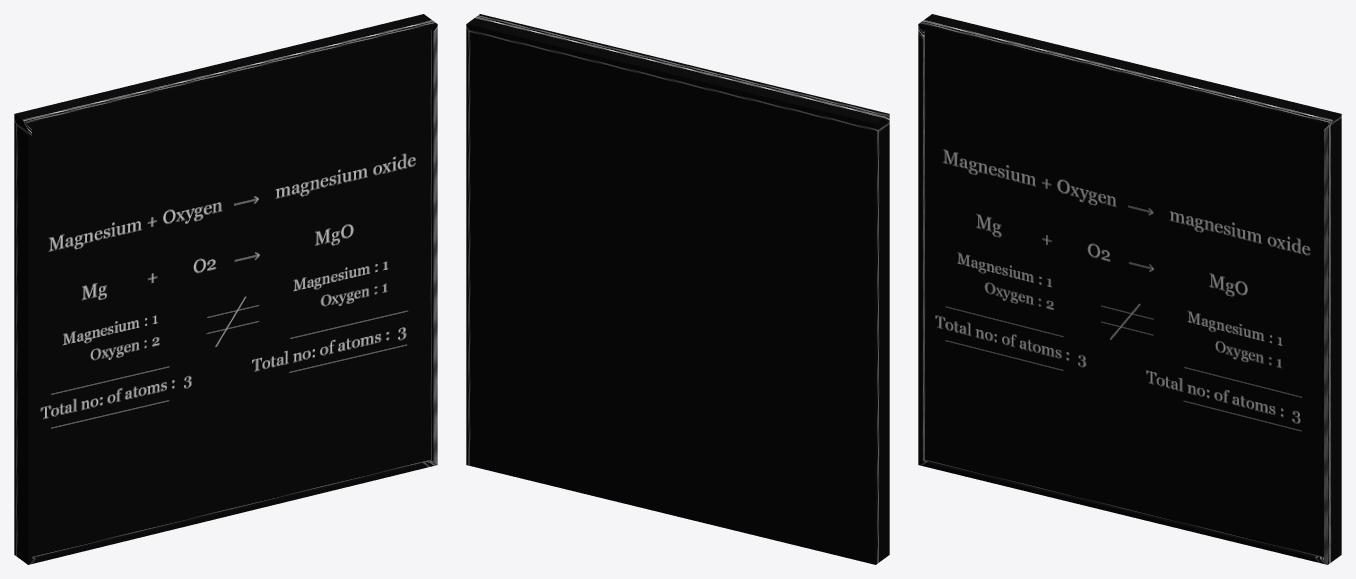
3 renders of one model, left to right at view 1: azimuth 30°, elevation 25°; view 2: azimuth 150°, elevation 25°; view 3: azimuth 330°, elevation 25°, orthographic.
Parts seen in each view (by area): view 1: mg_explanation_noard; view 2: mg_explanation_noard; view 3: mg_explanation_noard.
Part boxes in pixels (<box>): mg_explanation_noard: <box>14,14,437,564</box>; mg_explanation_noard: <box>466,14,889,564</box>; mg_explanation_noard: <box>918,14,1341,564</box>.
Bounding box in the file's own units: 331 × 340 × 19.33.
Materials: 1 (1 with a texture image).
